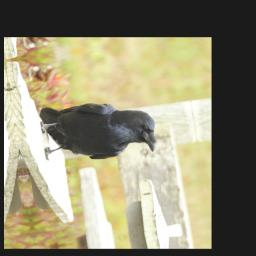Crow: (37, 93, 160, 167)
